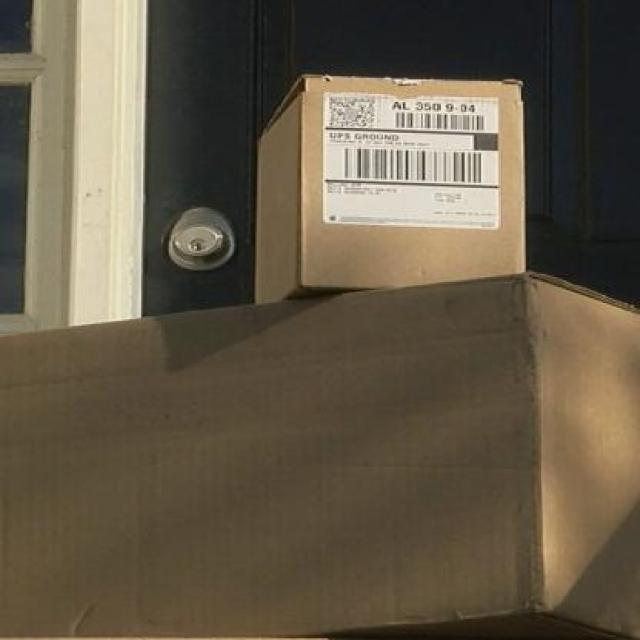box: (0, 293, 640, 639), (243, 70, 542, 312)
